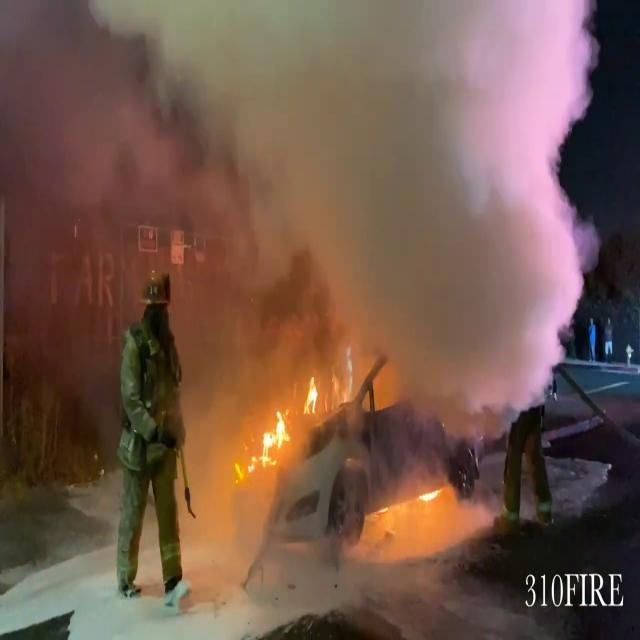Fire: (233, 407, 291, 484)
Smoke: (5, 0, 592, 426)
